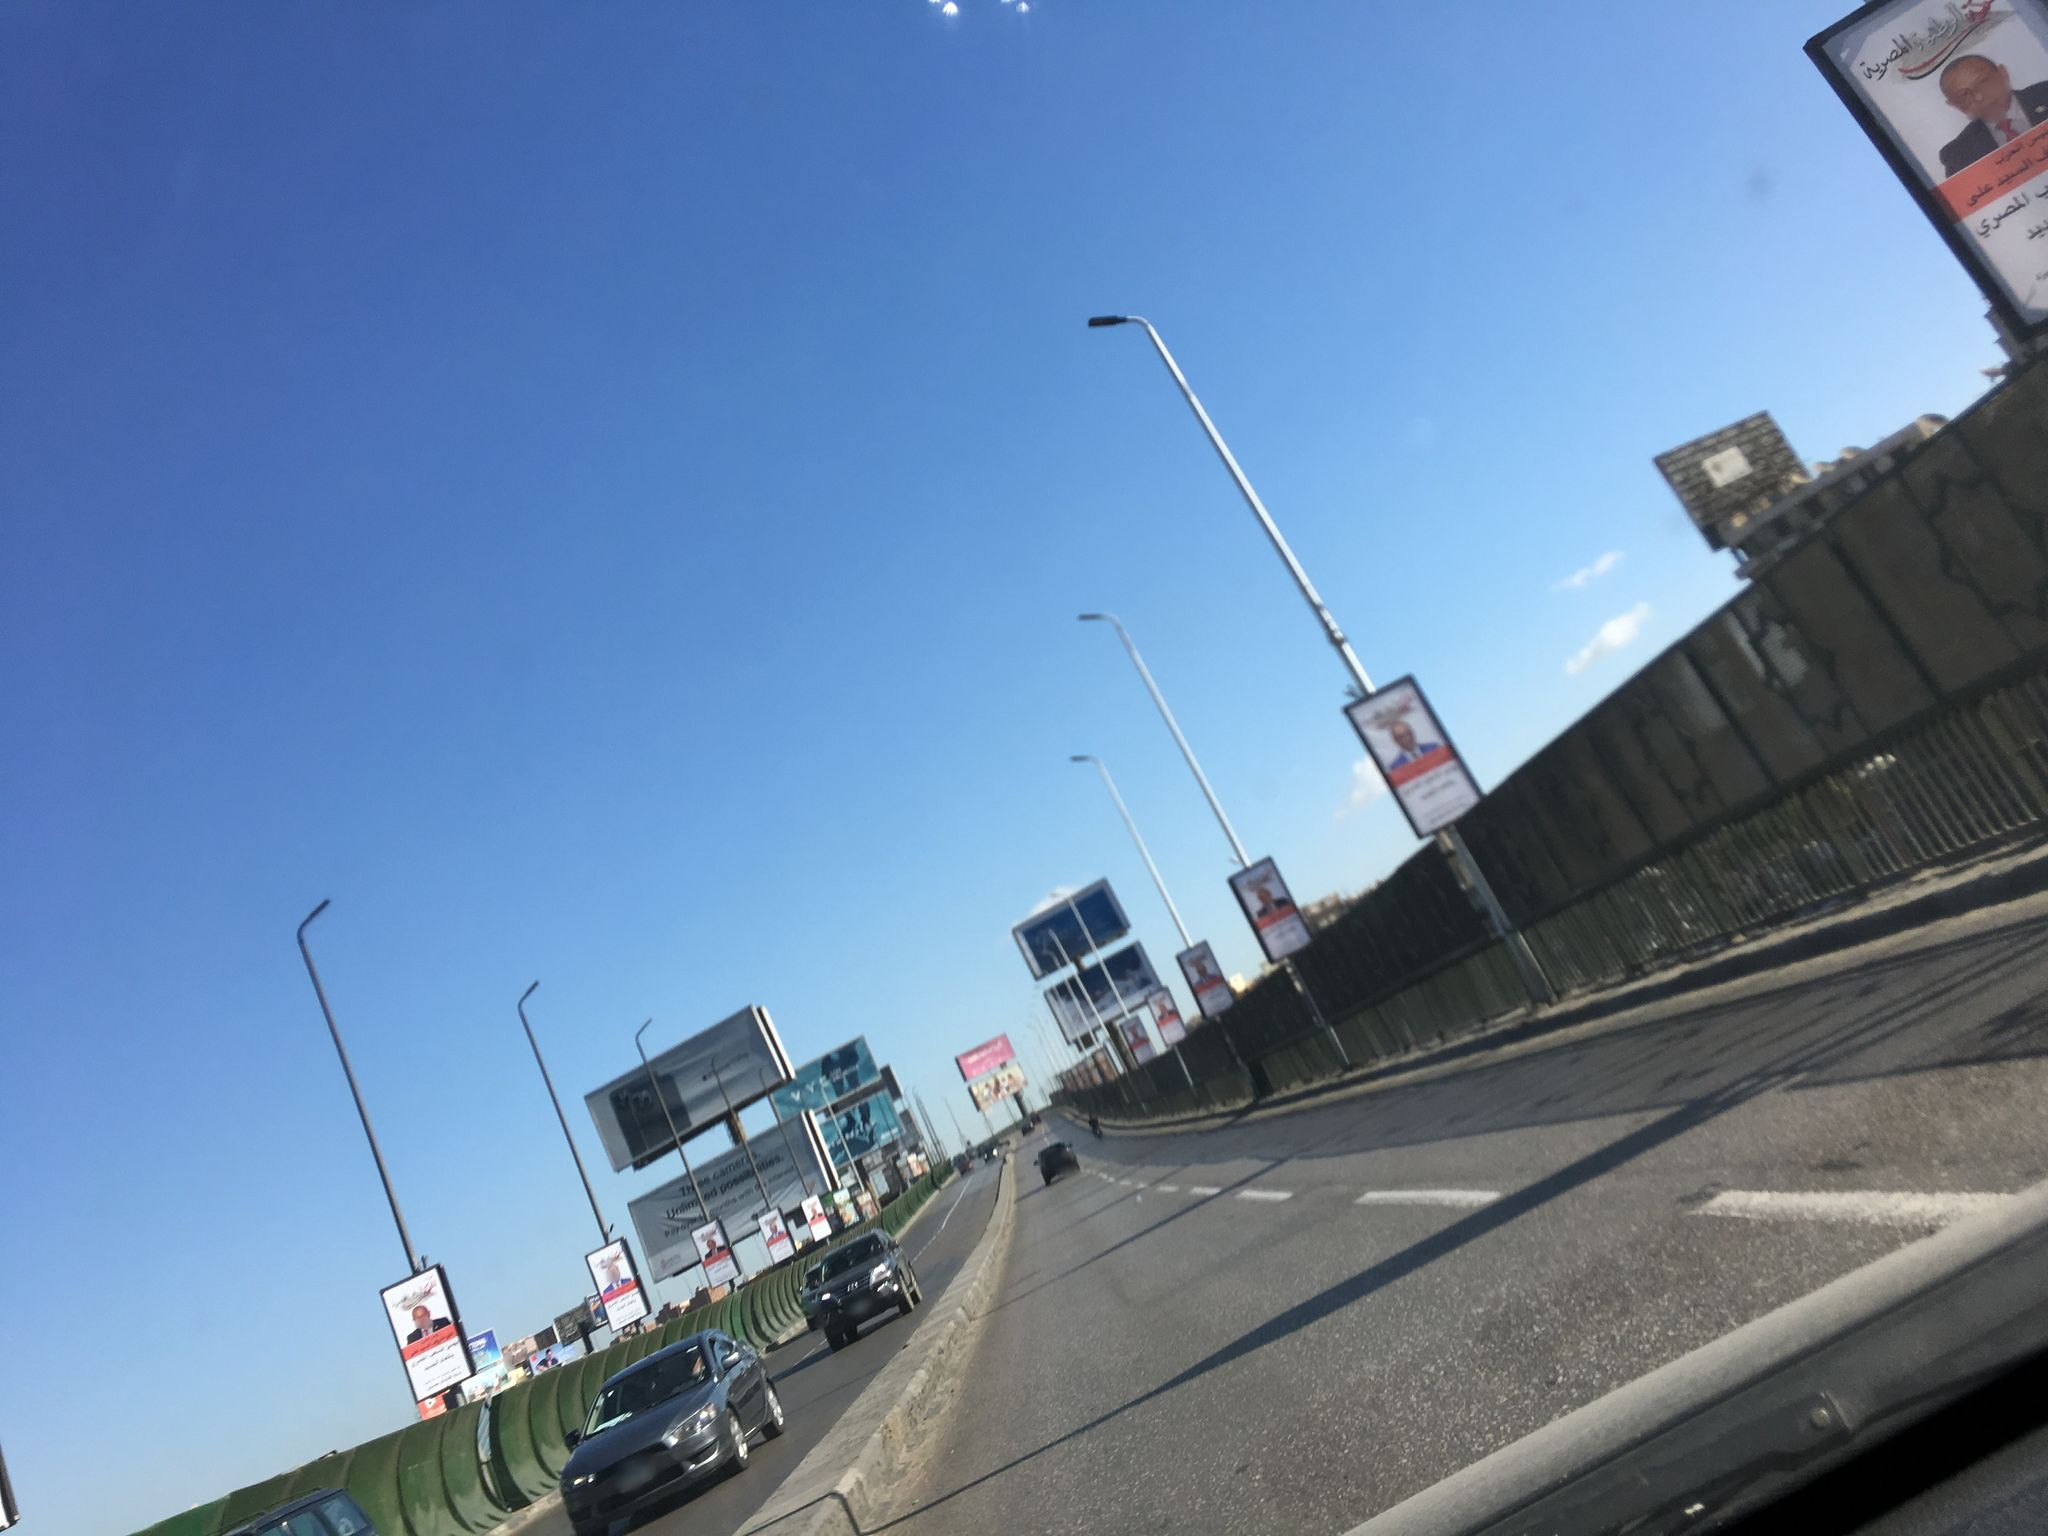car: (552, 1329, 785, 1526), (818, 1226, 922, 1350), (1032, 1141, 1080, 1184), (797, 1262, 826, 1329)
motorcycle: (1089, 1121, 1105, 1142)
